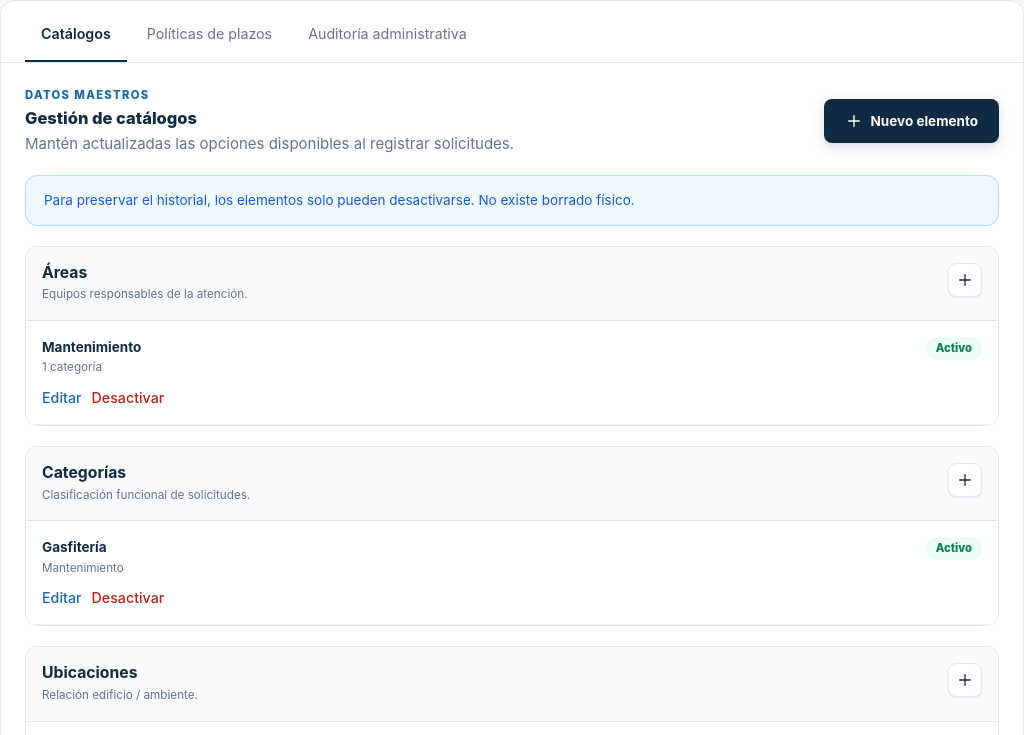
Test: P12 Configuración (HU21) › desactiva con DELETE tras confirmar (desactivación lógica)
Click the button named "Desactivar Mantenimiento": (128, 397) [92,387,164,408]
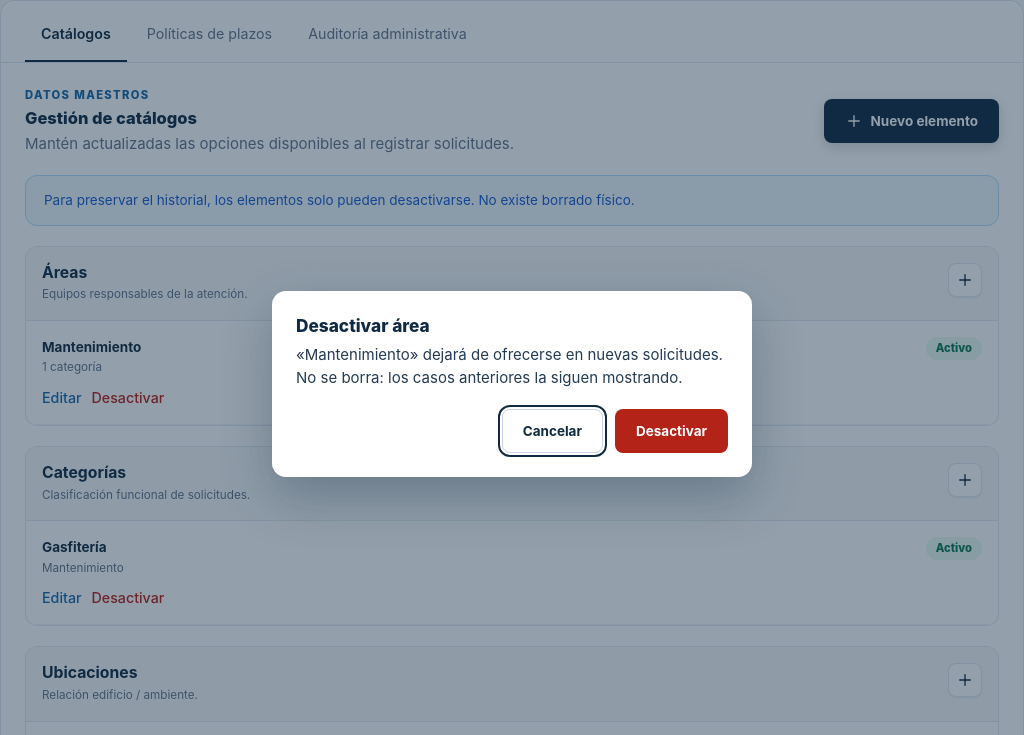
Expected: the dialog shows "No se borra", [296,345,723,387]
Click the button "Desactivar": (672, 431) [615,409,728,453]
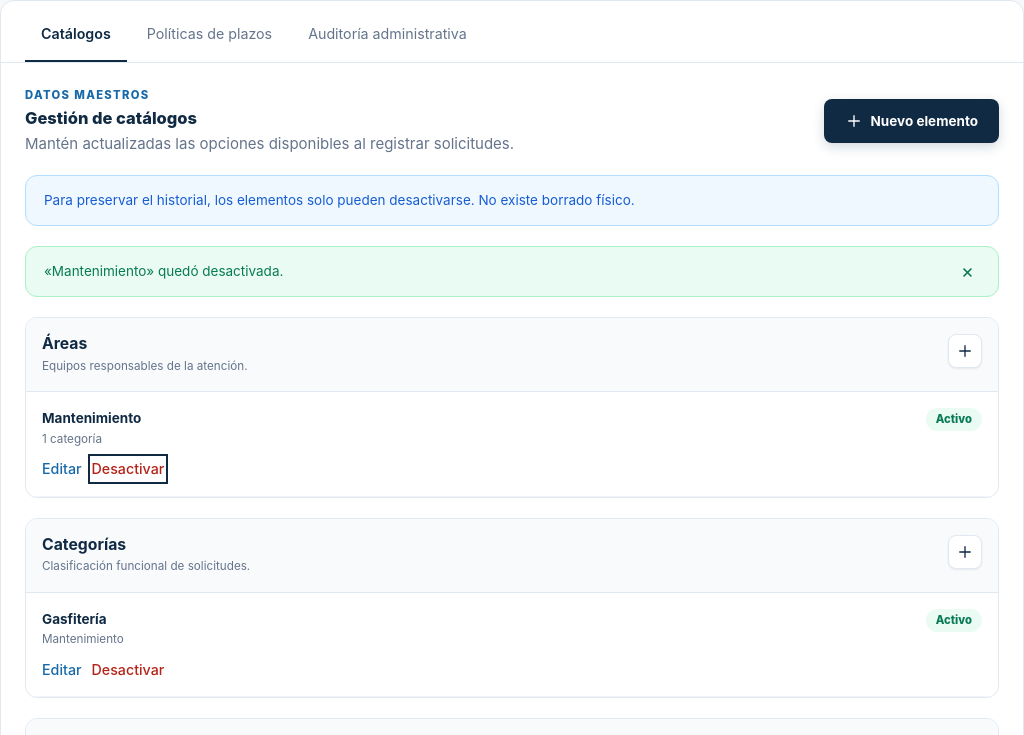
Expected: the text "«Mantenimiento» quedó desactivada." is shown, [44,263,283,279]
